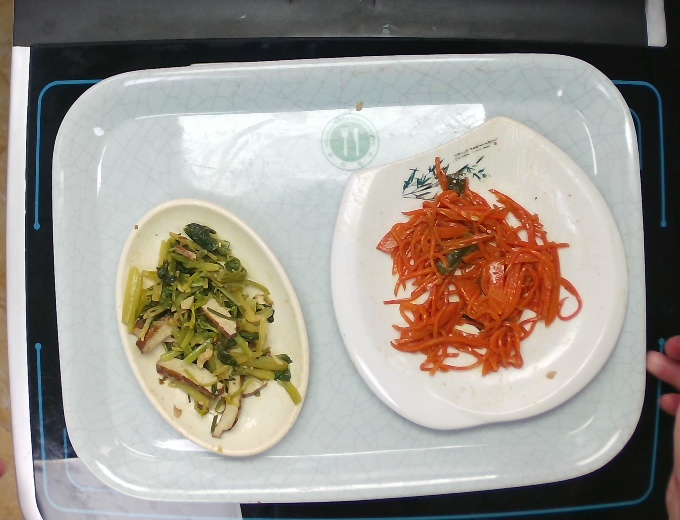JYsf-Mian_Pan: (327, 113, 633, 433)
JYsf-Tuo_Yuan_Wan: (112, 194, 312, 460)
